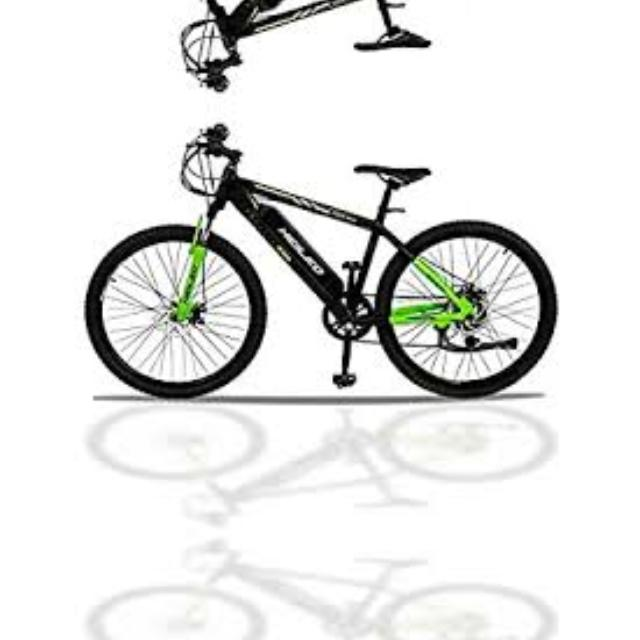obstacle: (84, 120, 560, 404), (83, 0, 560, 93)
